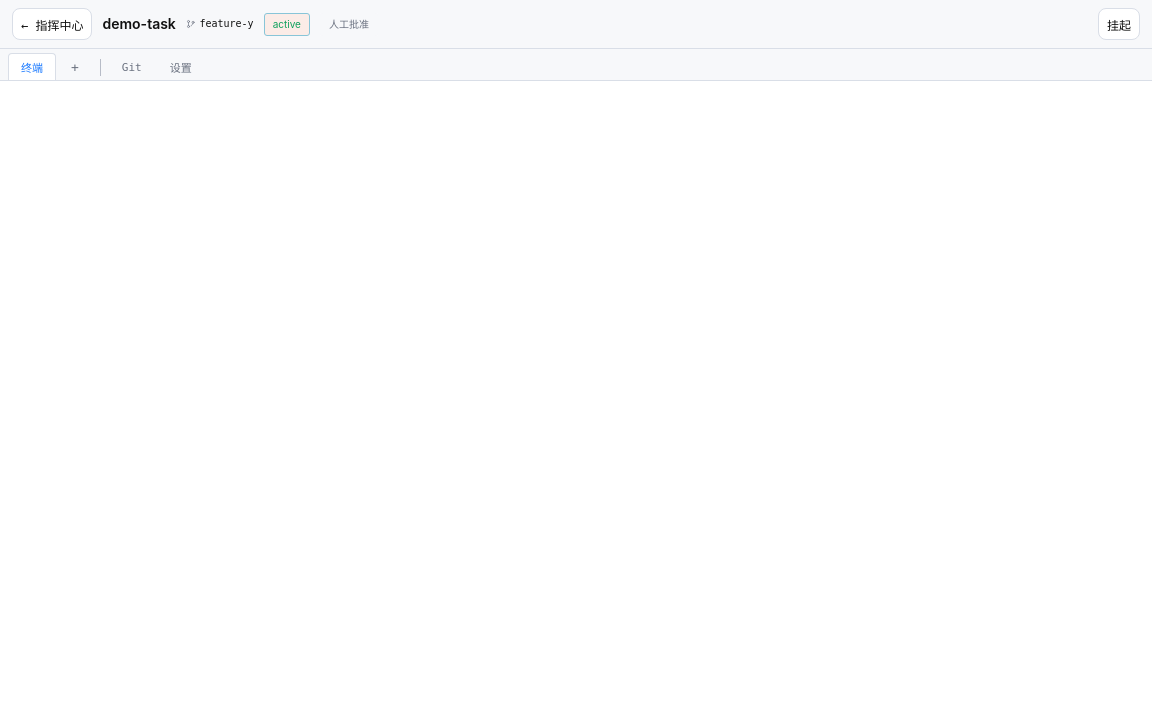
Test: 分支名点击复制（tasks 3.3 / design D3） › local-path 单分支点击复制：toast 反馈与双分支态一致
Click the button with class "branch-copy": (227, 24) [200,17,254,31]
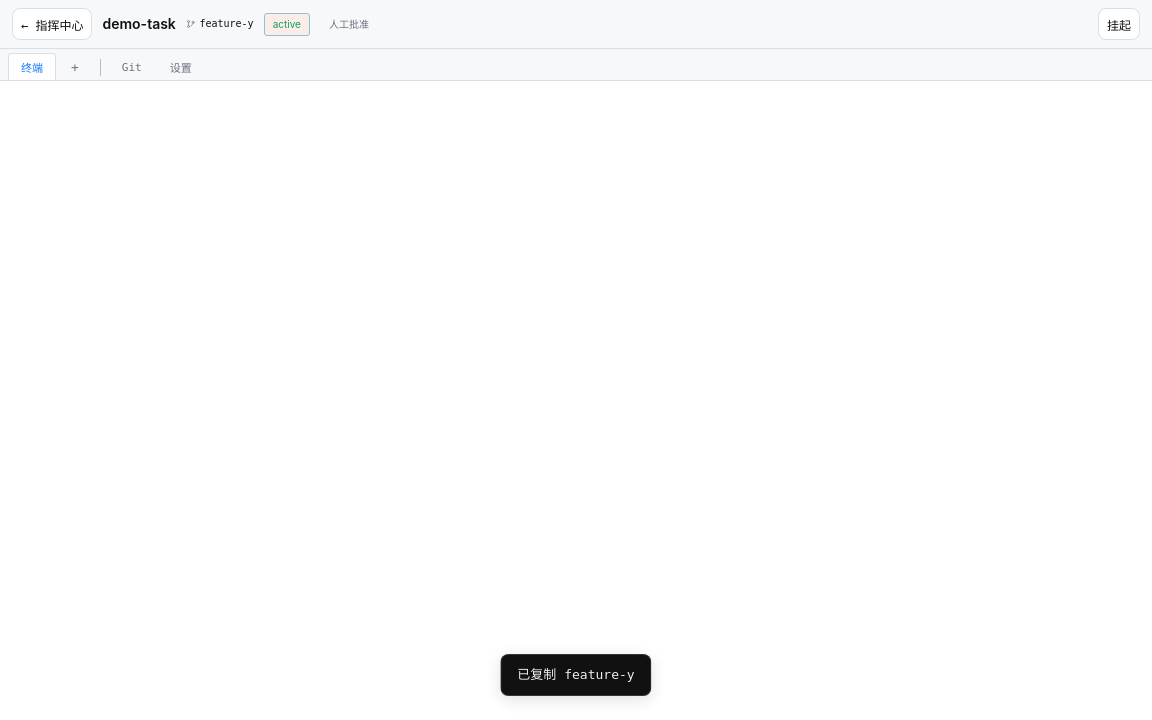
Check: the message with class "od-toast" reads "已复制 feature-y", box [517,667,635,682]
